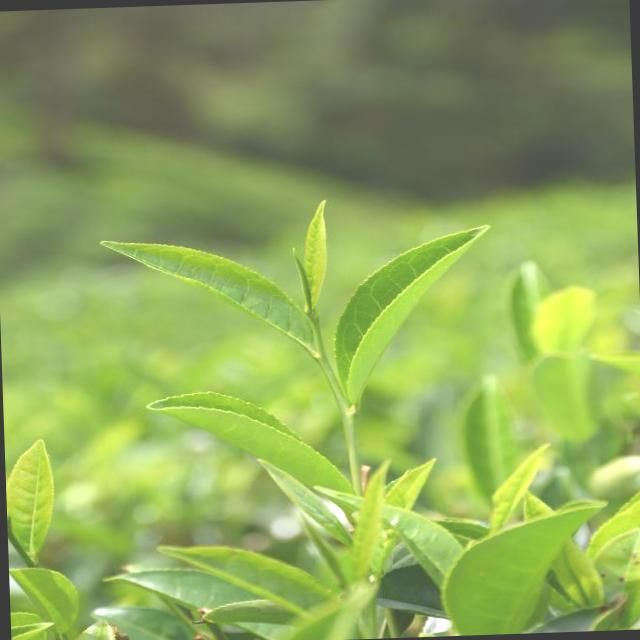Stem: (316, 354, 338, 385)
